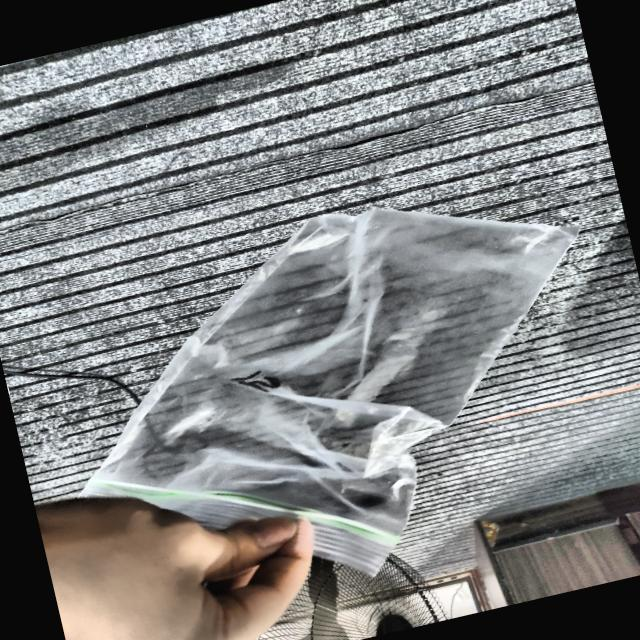plastic bag: (82, 208, 578, 573)
